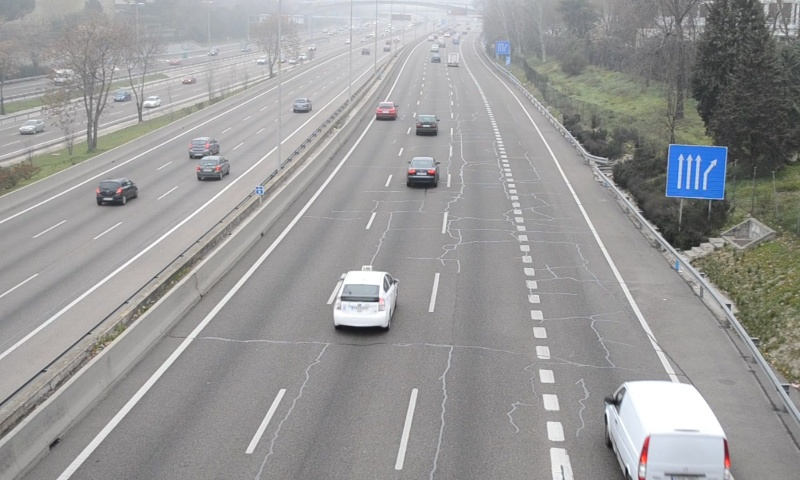car: (334, 271, 395, 328), (406, 156, 438, 184), (415, 114, 438, 134), (375, 101, 398, 120)
van: (606, 379, 730, 480)
